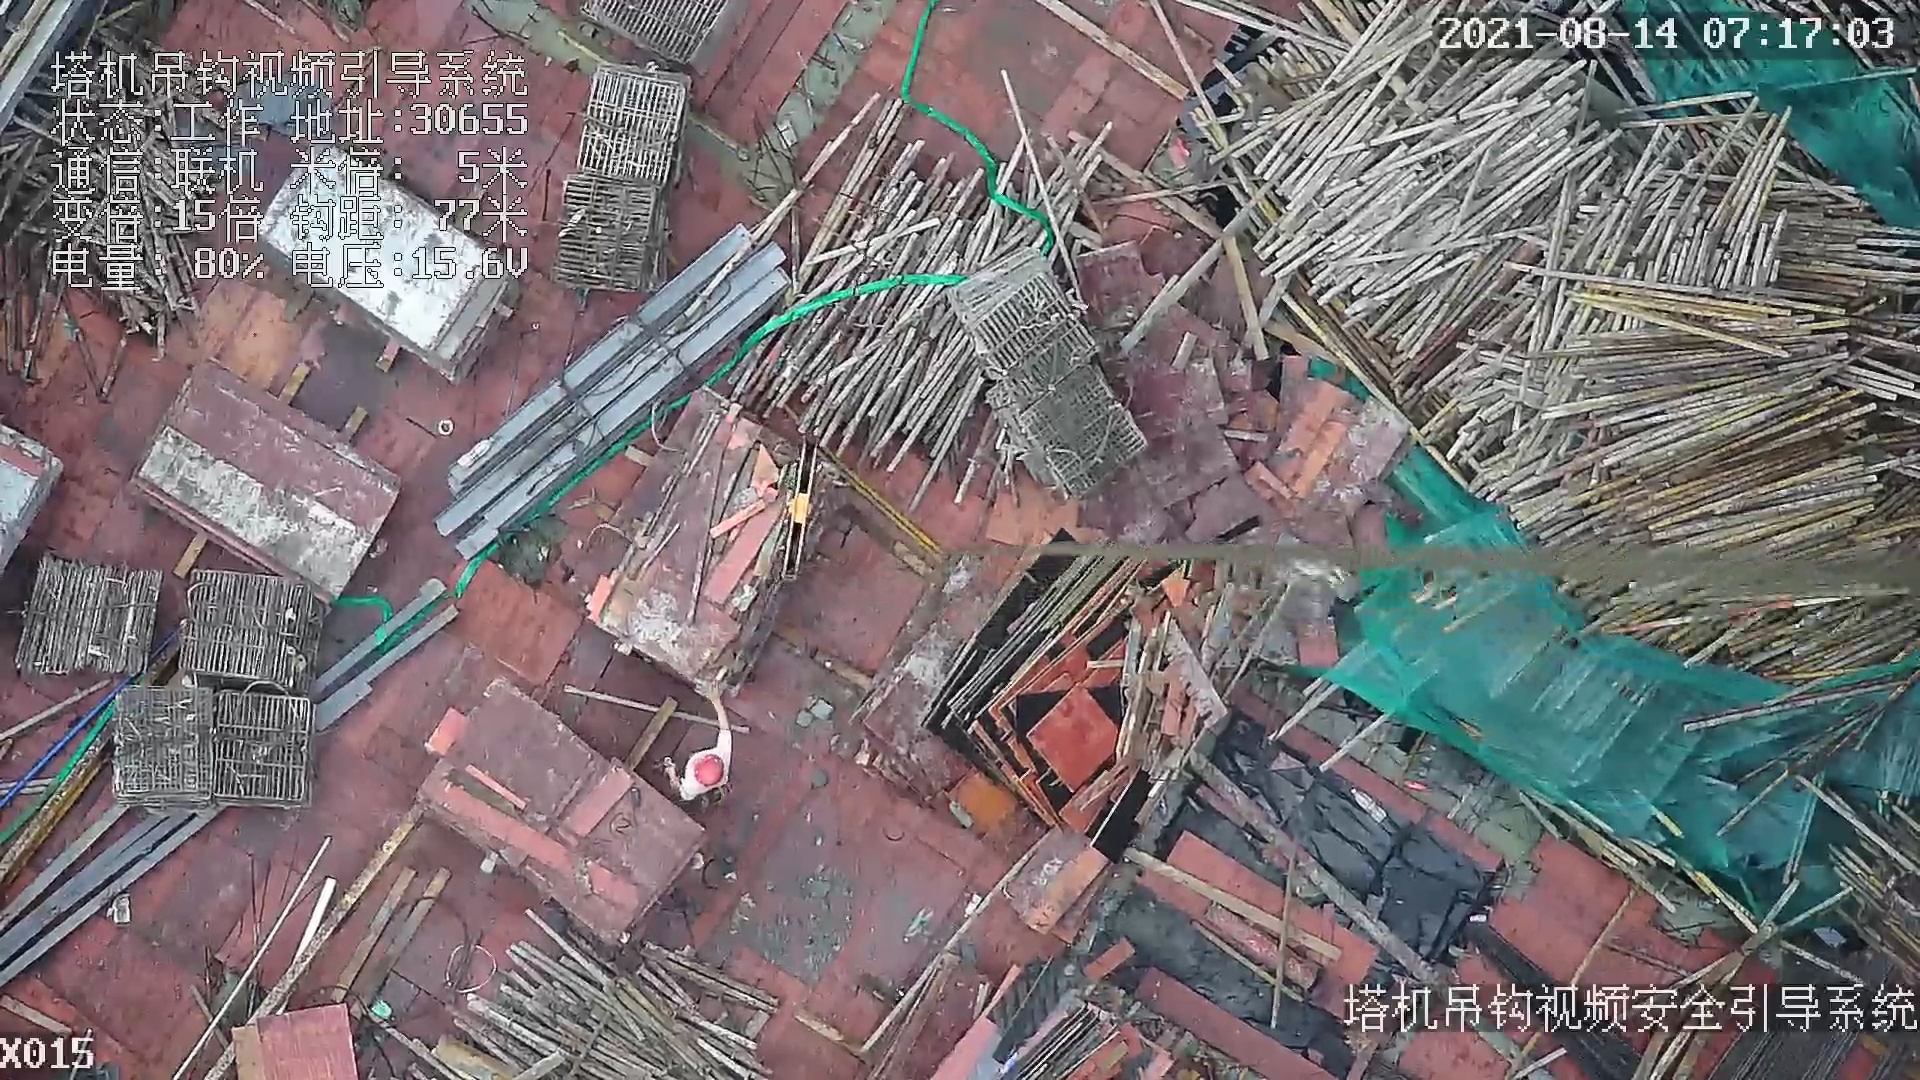helmet: (688, 752, 730, 790)
hook: (777, 432, 818, 585)
person: (668, 685, 732, 806)
